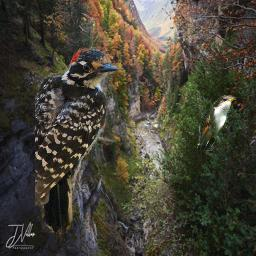Cuckoo: (197, 95, 237, 151)
Woodpecker: (35, 46, 119, 241)
